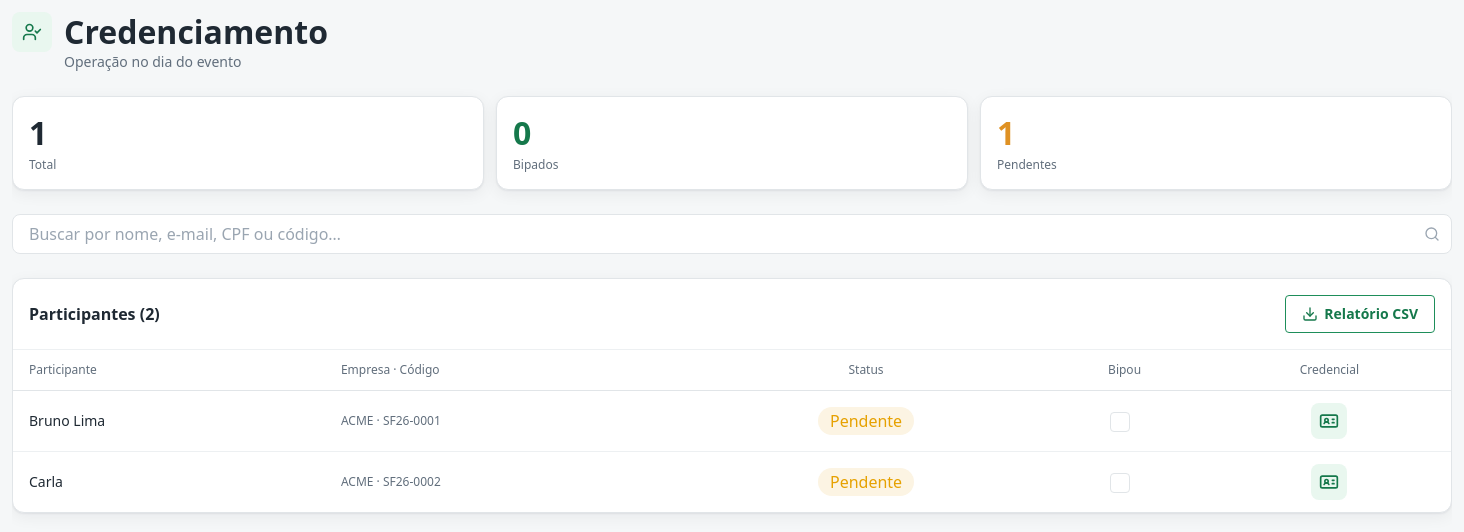
Test: OperatorPanel › busca por nome, e-mail, CPF ou código
Type "SF26-0002" into the field with placeholder "Buscar por nome, e-mail, CPF ou código…".
click(732, 234); type("SF26-0002")  # box x1=12 y1=214 x2=1452 y2=254
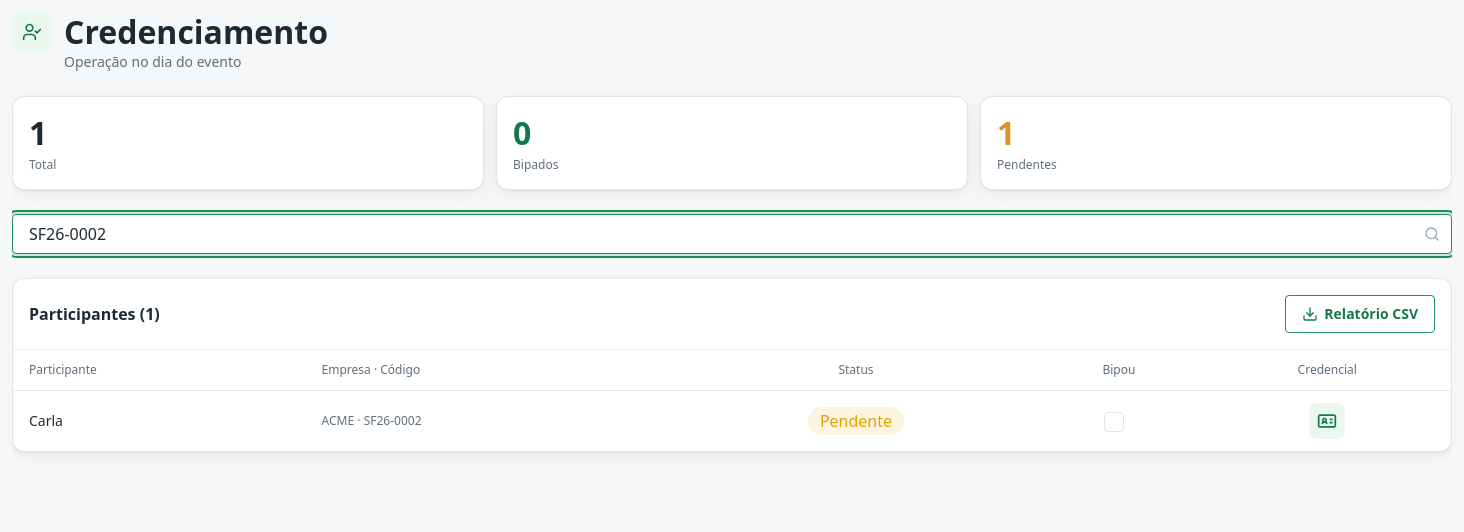
Expected: the text "Carla" is shown, x1=13 y1=390 x2=310 y2=451
Result: the text "Bruno Lima" is gone
